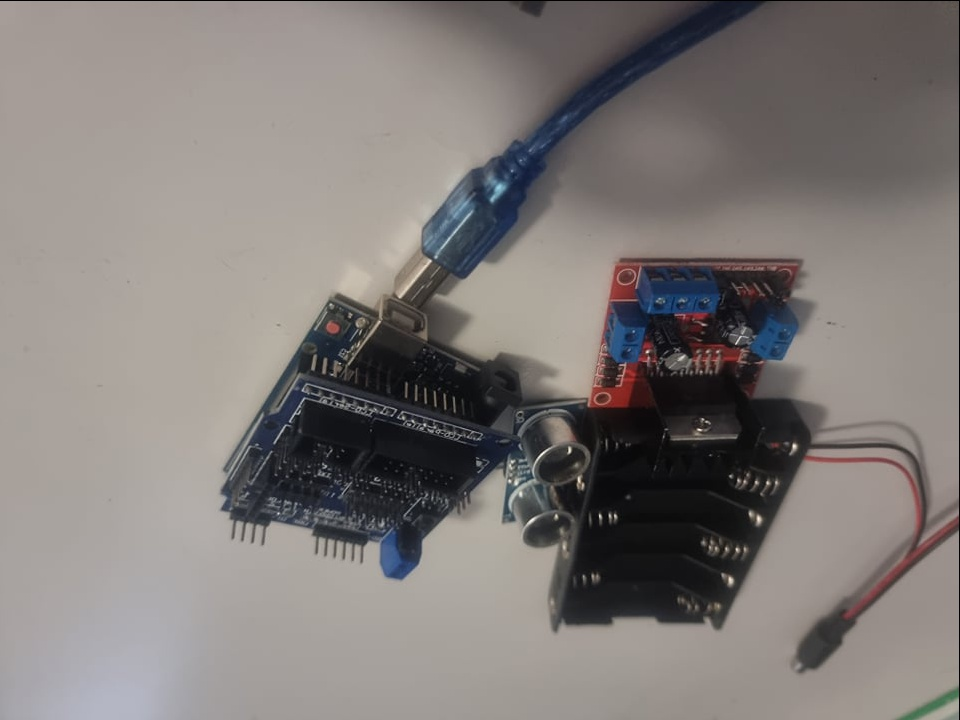5V EXPANSION: (221, 401, 518, 579)
BATTERY BOX: (541, 398, 811, 630)
MOTOR: (603, 254, 806, 466)
SENSOR: (496, 396, 589, 550)
UNO R3: (308, 290, 545, 404)
